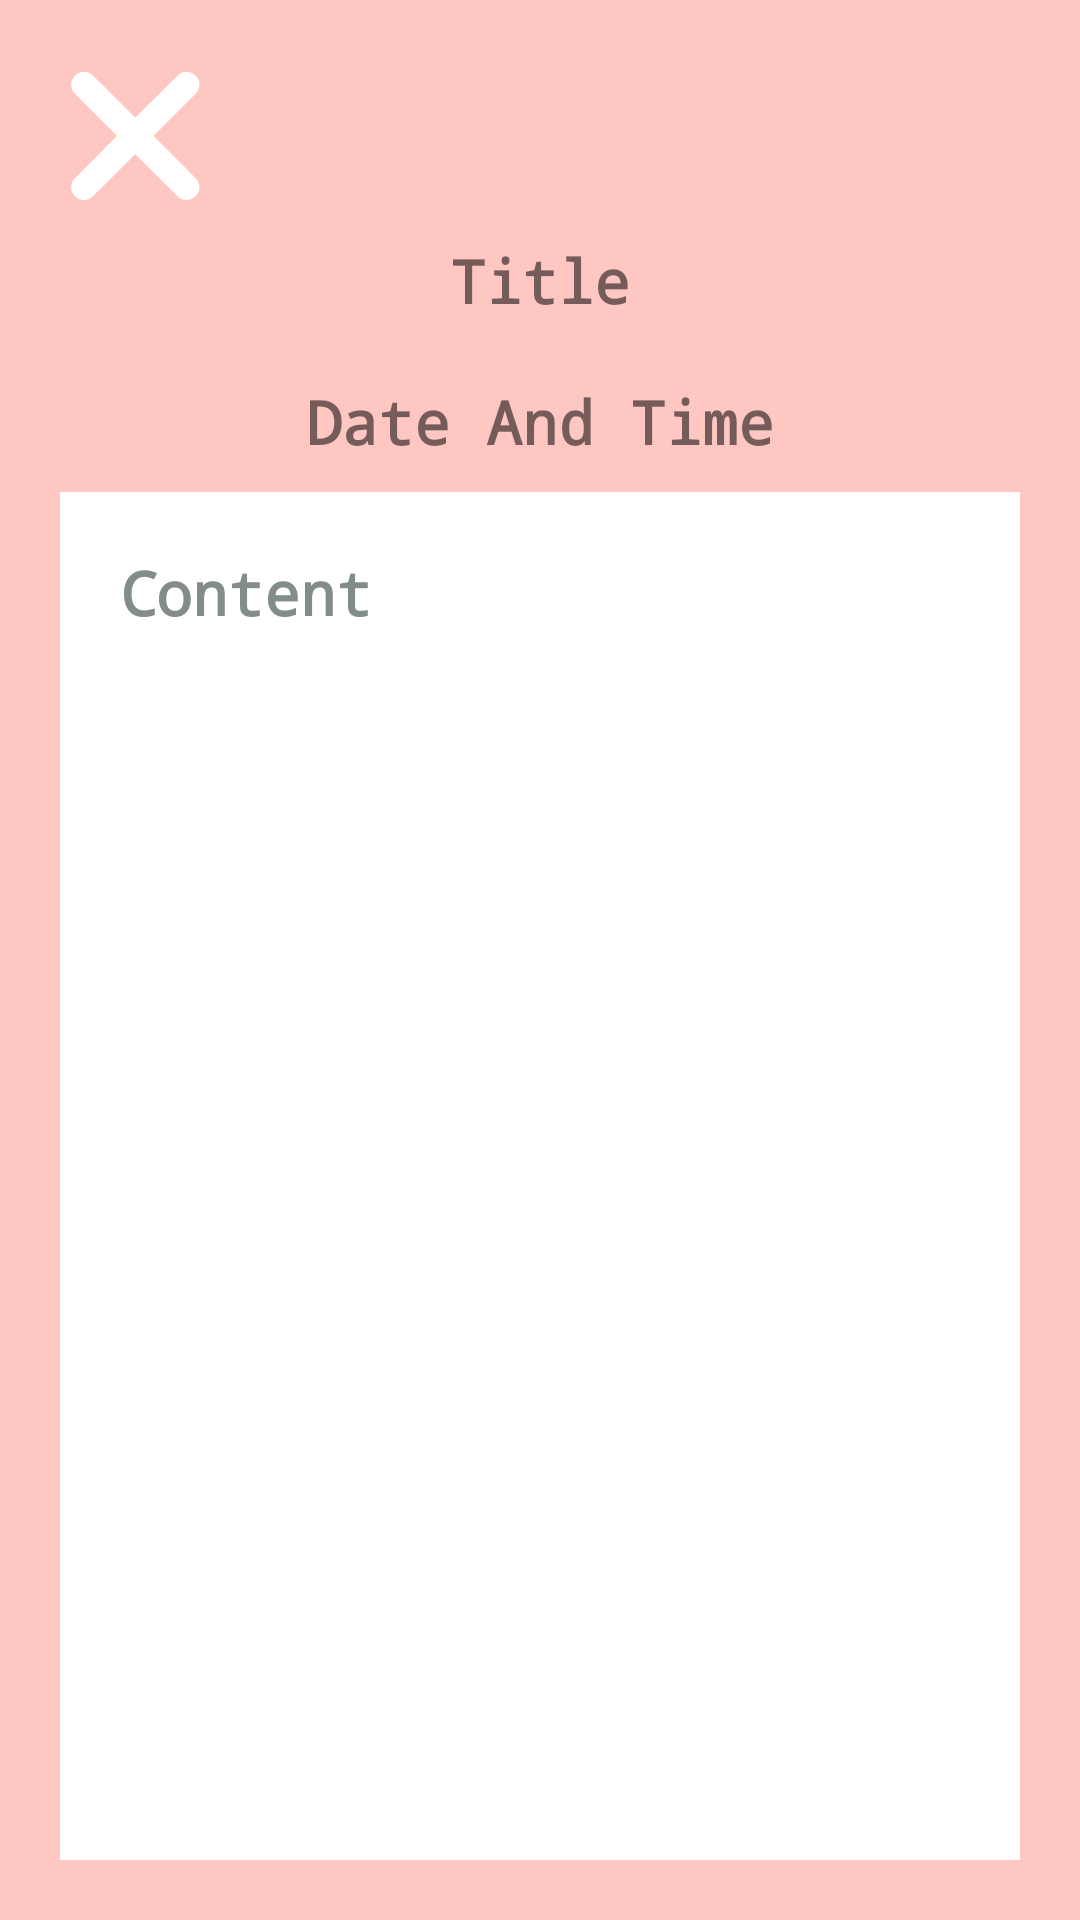

Icon bounding boxes for this 1080x1920 phone screenshot, format {"x1": x1, "y1": y1, "x2": x2, "y2": y2}:
exitbutton: {"x1": 71, "y1": 72, "x2": 199, "y2": 200}
